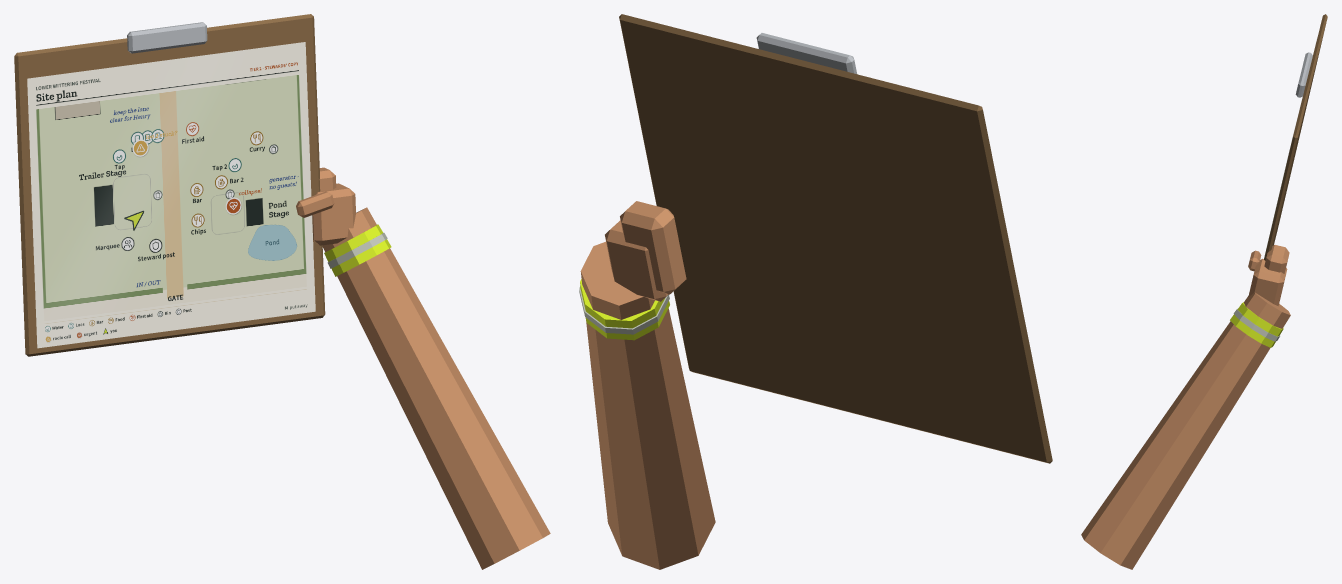
Rendered from lwf_fp_arm_right_siteplan_v1.glb.
3 views of the same model, side by side, from view 1: azimuth 30°, elevation 25°; view 2: azimuth 150°, elevation 25°; view 3: azimuth 270°, elevation 25° (orthographic). The views are drawn at different scales.
Visible parts, largest first — view 1: LWF_FPPlan_Sheet, LWF_FPArm_Right_SitePlan; view 2: LWF_FPArm_Right_SitePlan; view 3: LWF_FPArm_Right_SitePlan.
Boxes of the visible parts, x1,y1,x2,y2 form: LWF_FPPlan_Sheet: [27, 42, 315, 348]; LWF_FPArm_Right_SitePlan: [14, 14, 550, 569]; LWF_FPArm_Right_SitePlan: [579, 14, 1052, 569]; LWF_FPArm_Right_SitePlan: [1081, 14, 1327, 569].
Size of the model in its own units: 0.6178 by 0.7258 by 0.392.
Materials: 6 (1 with a texture image).
